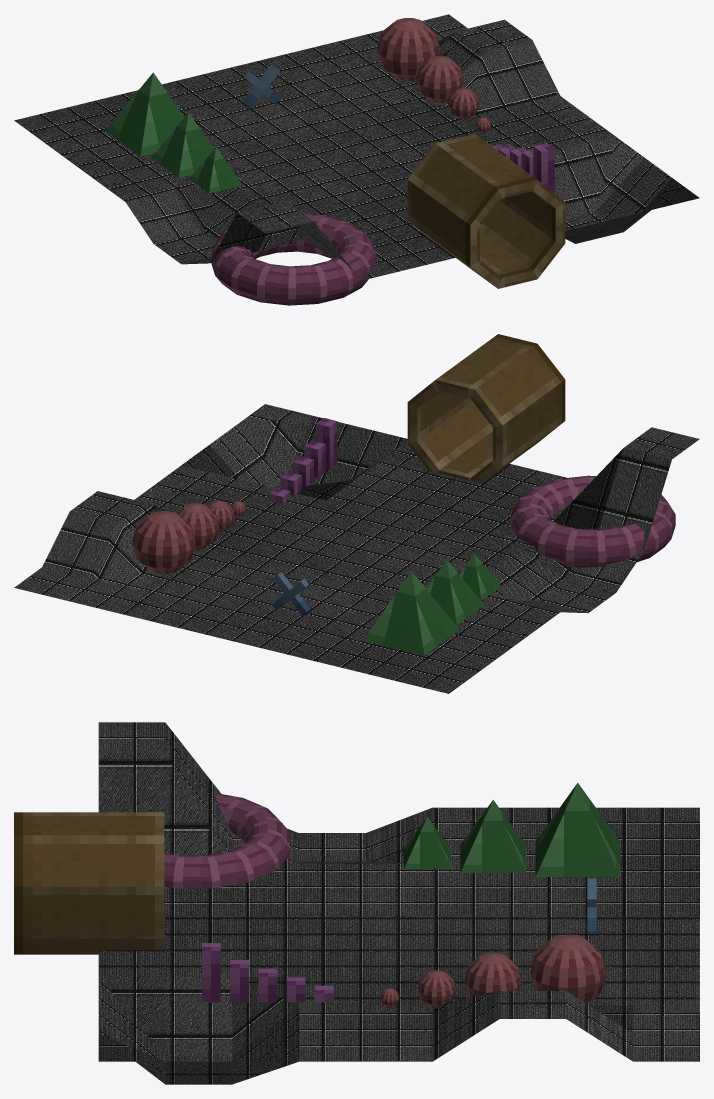
The model's file is playtest_map_24x24_scale1.gltf.
3 renders of one model, top to bottom at view 1: azimuth 30°, elevation 25°; view 2: azimuth 150°, elevation 25°; view 3: azimuth 270°, elevation 25°, orthographic. The views are drawn at different scales.
Parts seen in each view (by area): view 1: plane, tube, torus, pyramid (×3), sphere (×3), cube (×2); view 2: plane, tube, torus, pyramid (×3), sphere (×2), cube (×2); view 3: plane, tube, pyramid (×3), sphere (×3), torus, cube (×3).
Boxes of the visible parts, x1=… form: plane: x1=14, y1=14, x2=699, y2=280; tube: x1=407, y1=134, x2=565, y2=288; torus: x1=211, y1=212, x2=376, y2=305; pyramid (×3): x1=105, y1=72, x2=242, y2=193; sphere (×3): x1=377, y1=18, x2=479, y2=119; cube (×2): x1=243, y1=65, x2=554, y2=191; plane: x1=14, y1=404, x2=699, y2=693; tube: x1=407, y1=334, x2=565, y2=483; torus: x1=510, y1=475, x2=675, y2=567; pyramid (×3): x1=363, y1=554, x2=500, y2=655; sphere (×2): x1=132, y1=503, x2=218, y2=573; cube (×2): x1=304, y1=418, x2=337, y2=477; plane: x1=98, y1=722, x2=699, y2=1084; tube: x1=14, y1=812, x2=164, y2=954; pyramid (×3): x1=404, y1=783, x2=619, y2=876; sphere (×3): x1=418, y1=934, x2=605, y2=1007; torus: x1=164, y1=793, x2=289, y2=888; cube (×3): x1=202, y1=943, x2=276, y2=1002.
Bounding box in the file's own units: 258 × 76 × 292.
Materials: 7 (7 with a texture image).
